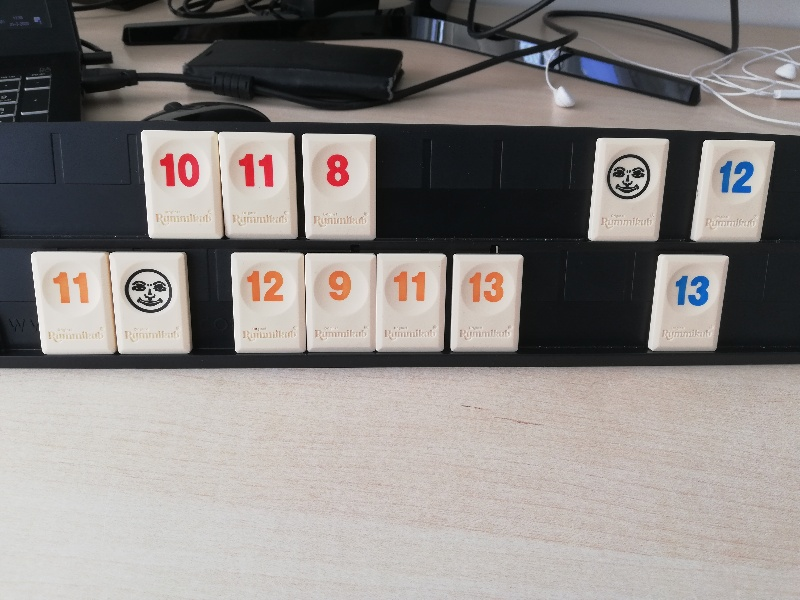10: (136, 125, 226, 241)
11: (26, 249, 117, 358), (224, 131, 298, 243), (376, 253, 443, 354)
12: (690, 139, 780, 246), (230, 248, 307, 357)
13: (643, 253, 735, 354), (449, 248, 529, 352)
8: (304, 130, 376, 242)
9: (304, 250, 381, 356)
joker: (588, 135, 674, 242), (112, 251, 192, 359)
